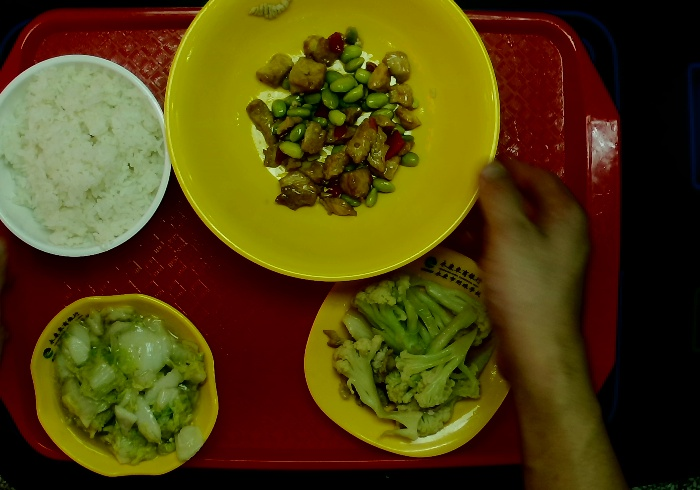YKMZ-Fan_Wan: (1, 45, 174, 261)
YKMZ-Huang_Se_Ao_Bian_Wan: (26, 283, 229, 480)
YKMZ-Huang_Se_Fang_Die: (293, 228, 542, 465)
YKMZ-Huang_Se_Tang_Wan: (161, 1, 503, 288)
